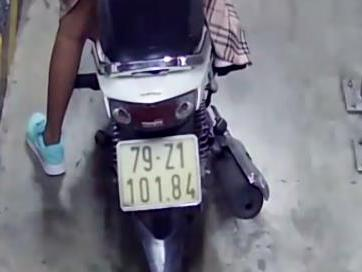num_plate: (117, 134, 201, 210)
